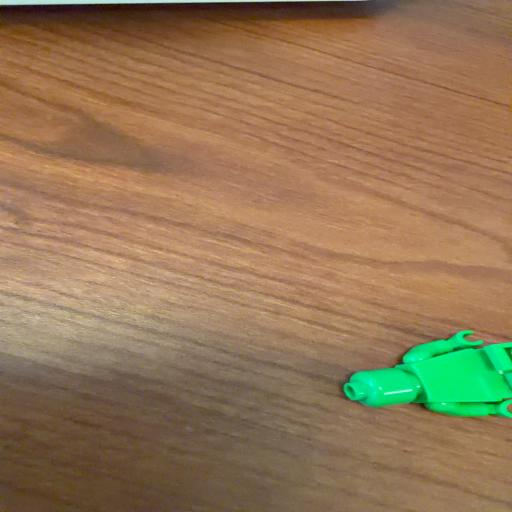UnoQ-minifig-detector: (338, 330, 512, 418)
